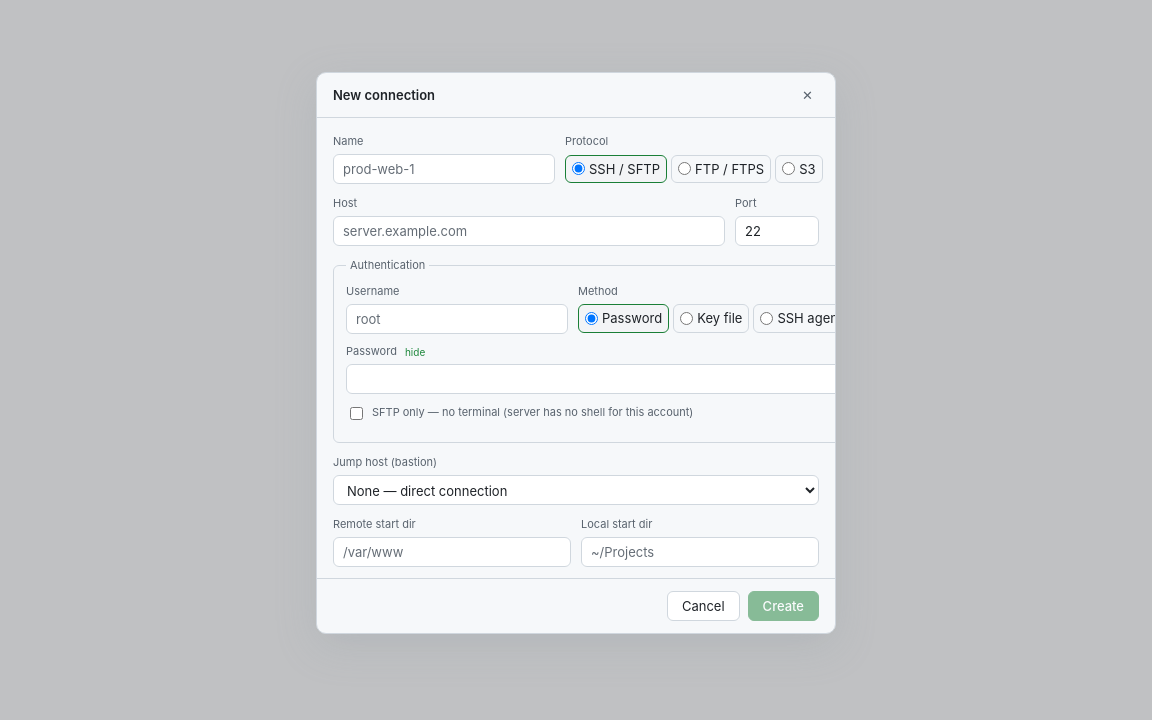
ConnectionDialog credential loading › exposes SSH authentication methods as real selectable inputs
Expected: the radio button labelled "Password" is checked, [585,312,598,325]
Click the radio button labelled "Key file" at (687, 319), box [680,312,693,325]
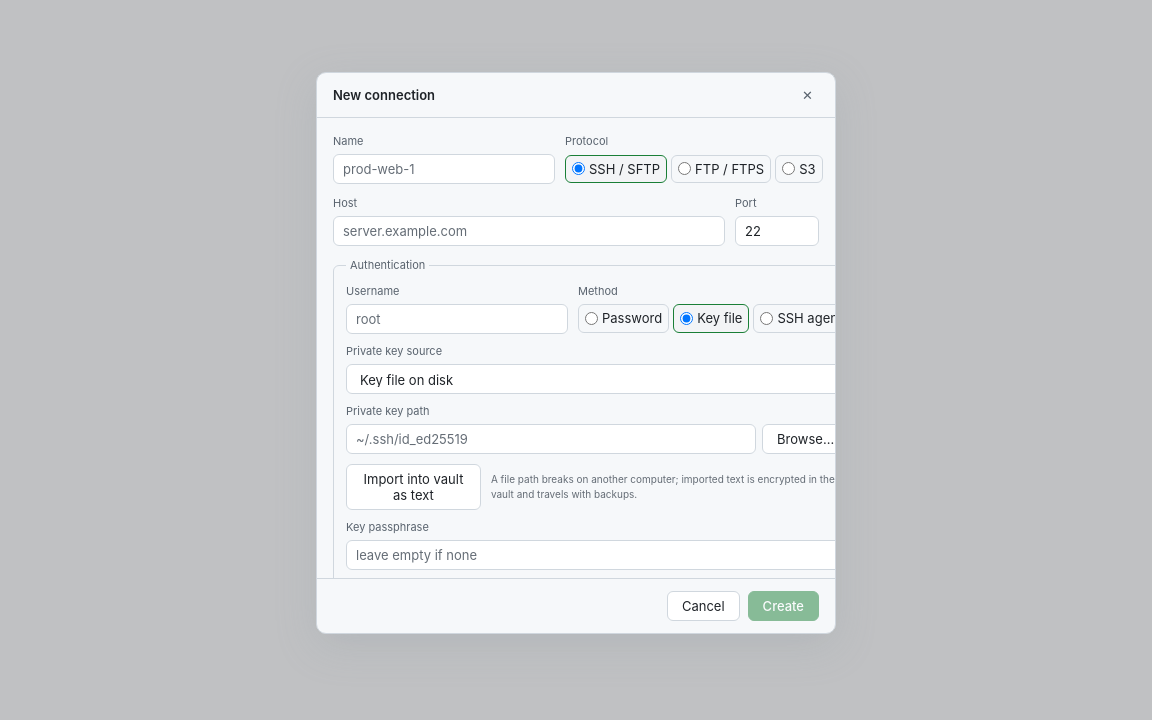
Expected: the radio button labelled "Key file" is checked, [680,312,693,325]
Expected: the field named "SSH private key path" is shown, [346,424,756,454]
